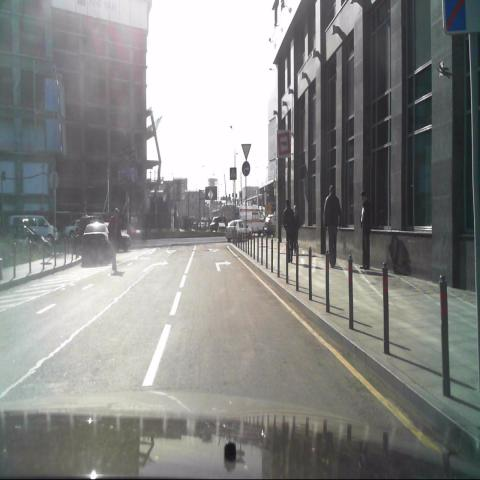2_4: (240, 142, 252, 160)
4_1_2: (242, 162, 250, 176)
5_19_1: (230, 167, 236, 179)
